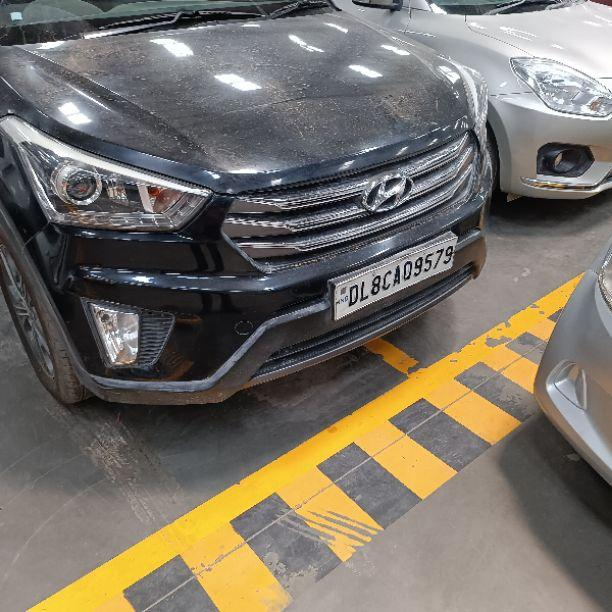license_plate: (330, 230, 458, 322)
